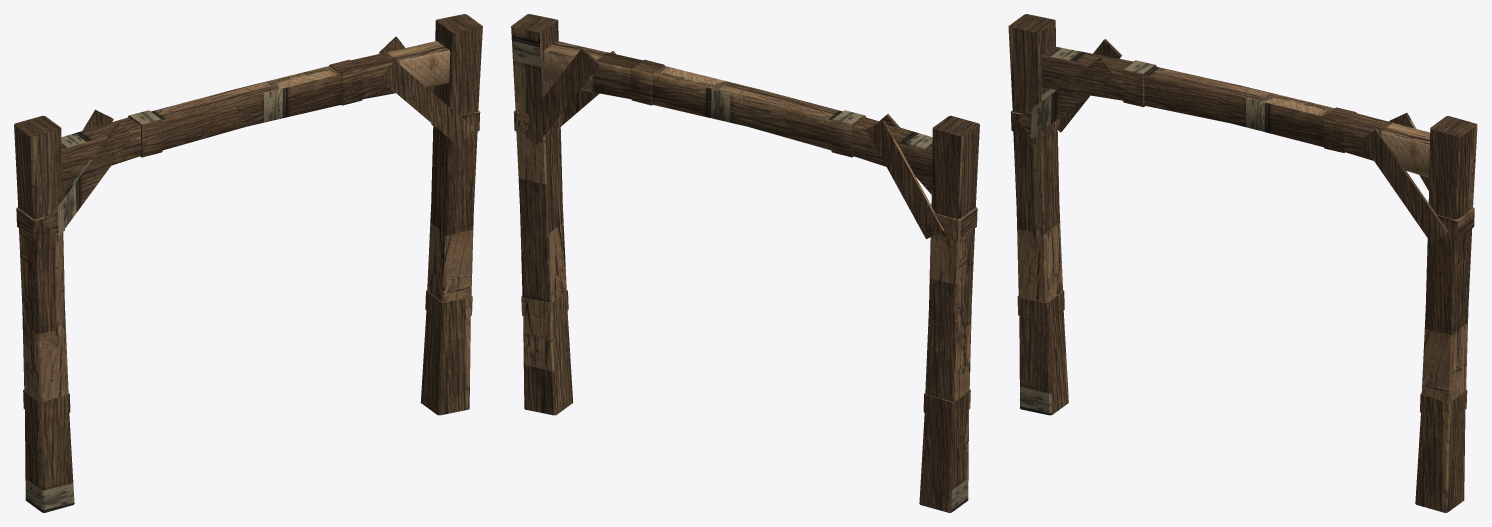
File: SupportBeams.obj
3 views of the same model, side by side, from view 1: azimuth 30°, elevation 25°; view 2: azimuth 150°, elevation 25°; view 3: azimuth 330°, elevation 25° (orthographic).
Parts seen in each view (by area): view 1: SupportBeams; view 2: SupportBeams; view 3: SupportBeams.
Boxes of the visible parts, bbox=[...] form: SupportBeams: bbox=[14, 14, 482, 512]; SupportBeams: bbox=[511, 14, 979, 512]; SupportBeams: bbox=[1008, 14, 1477, 512].
Bounding box in the file's own units: 2.48 × 1.99 × 0.2028.
